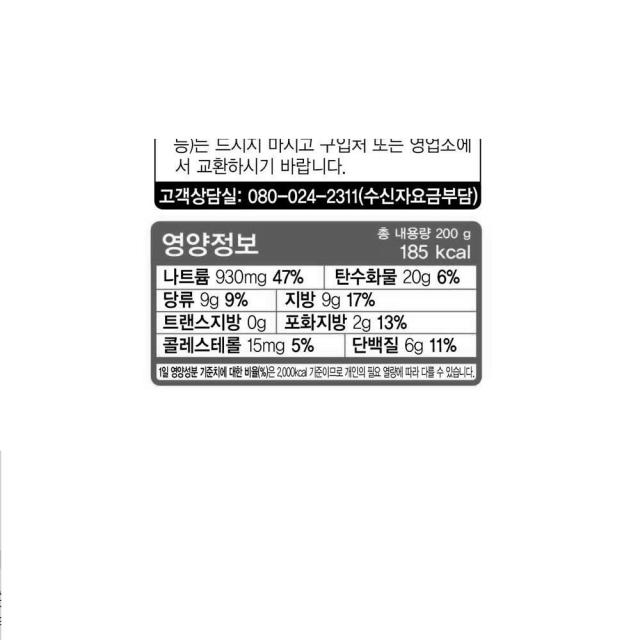Nutrition Label: (133, 217, 499, 402)
